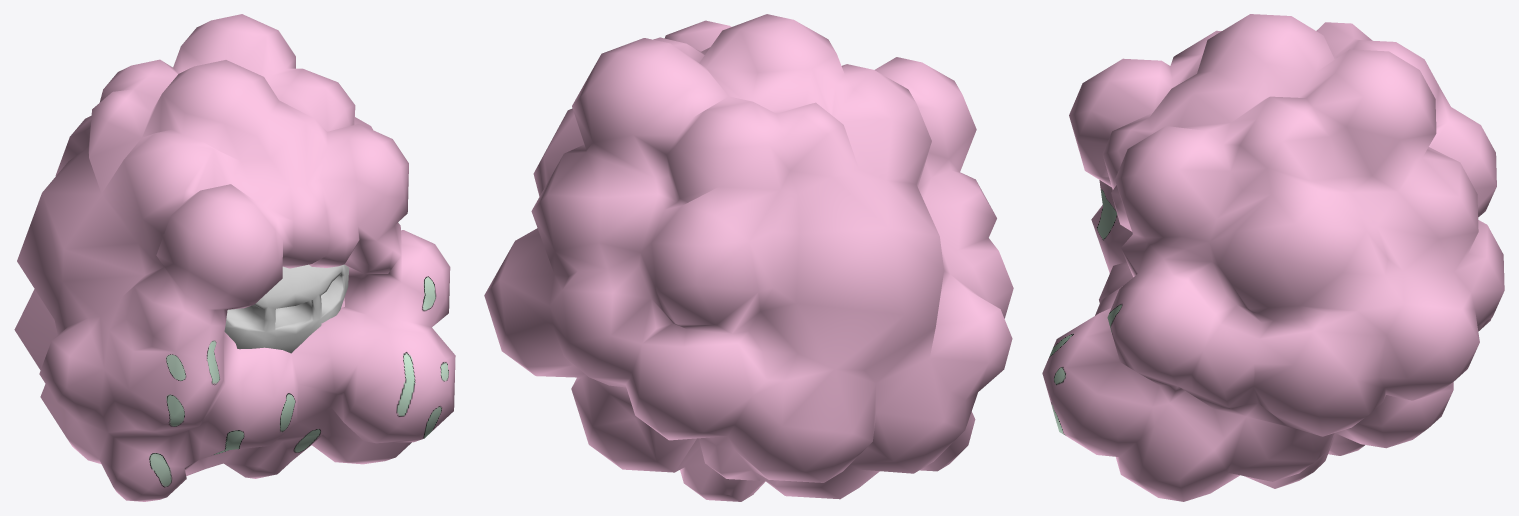
The model's file is petora30cm_2.fbx.
3 renders of one model, left to right at view 1: azimuth 30°, elevation 25°; view 2: azimuth 150°, elevation 25°; view 3: azimuth 270°, elevation 25°, orthographic. The views are drawn at different scales.
Visible parts, largest first — view 1: soto, nakami; view 2: soto; view 3: soto.
Part boxes in pixels (x1,y1,x2,y2): soto: (14, 14, 455, 501); nakami: (224, 264, 349, 353); soto: (484, 14, 1013, 501); soto: (1042, 14, 1504, 501).
Bounding box in the file's own units: 0.0331 × 0.0337 × 0.0327.
